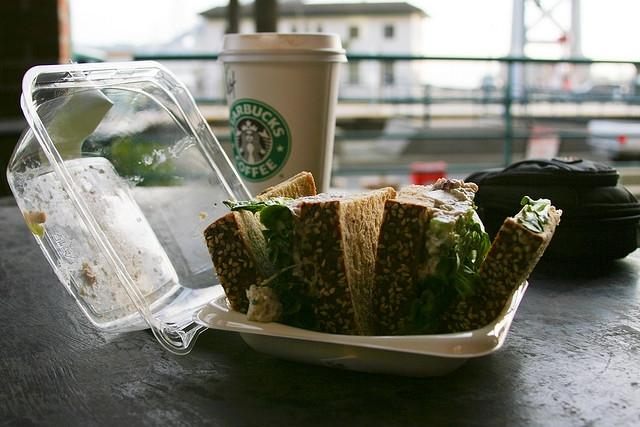lettuce: (222, 196, 320, 331), (397, 208, 491, 335), (467, 249, 478, 261)
